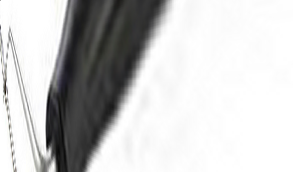Screwdriver: (1, 1, 168, 172)
